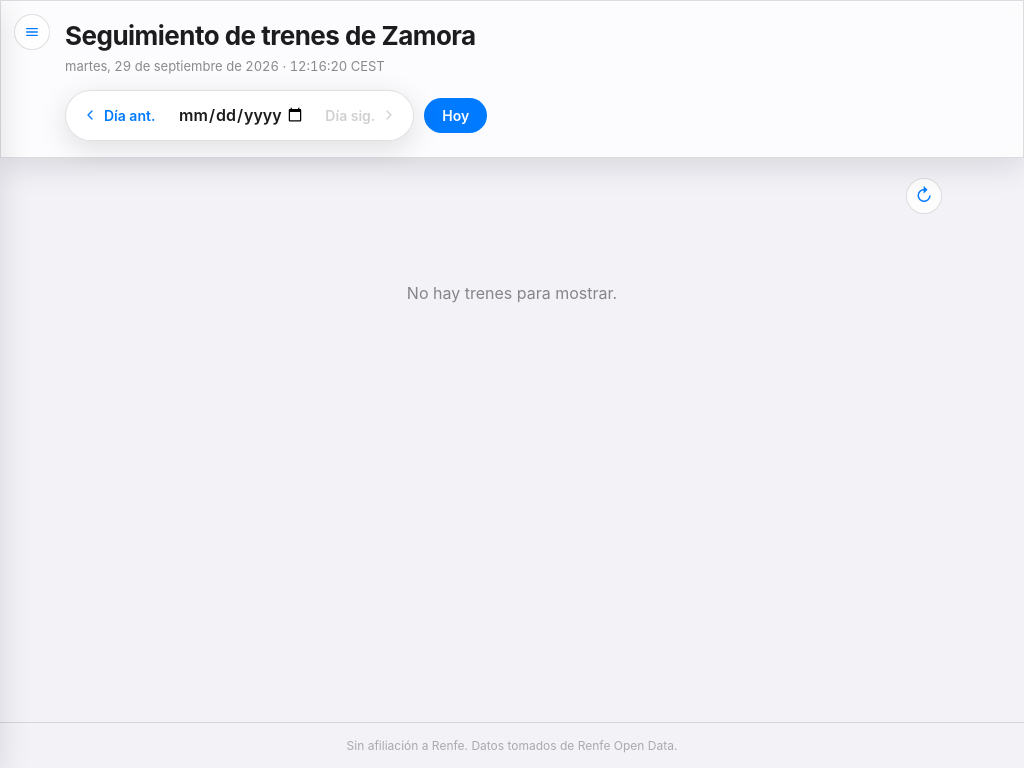
App › swaps to a past day's trains once a date is picked
This screenshot has width=1024, height=768.
Expected: the text "No hay trenes para mostrar." is shown, [407, 283, 617, 303]
Type "2026-01-04" into the date field named "fecha" at (240, 115), box [169, 94, 311, 136]
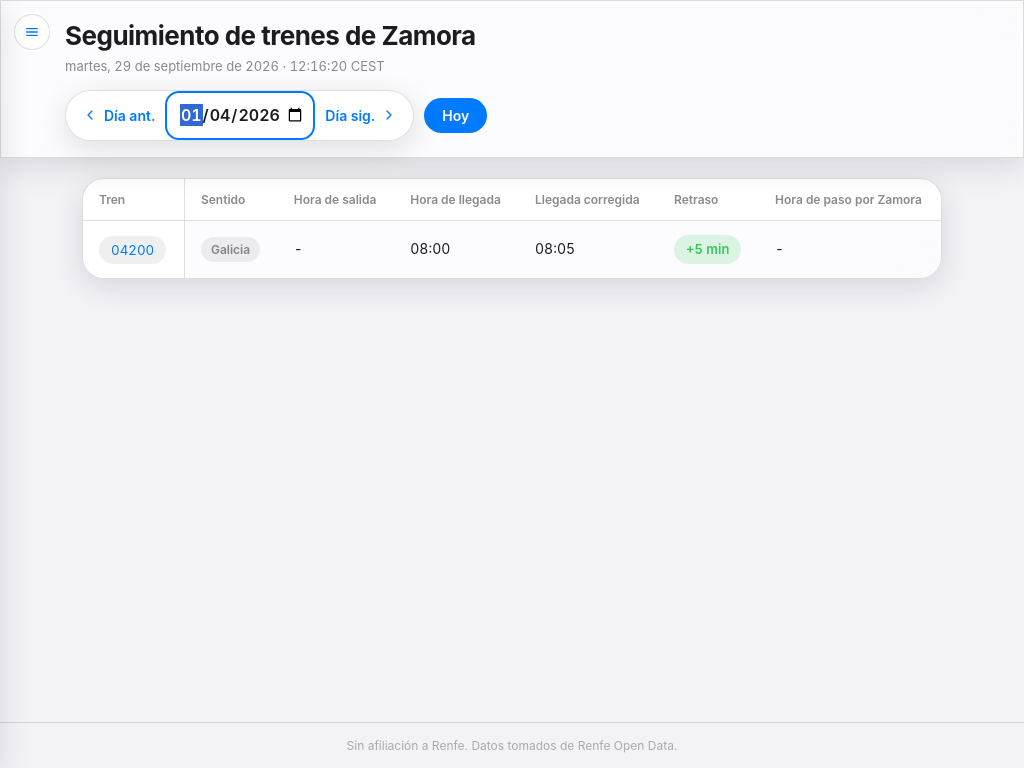
Expected: the button "04200" is shown, [99, 236, 166, 264]
